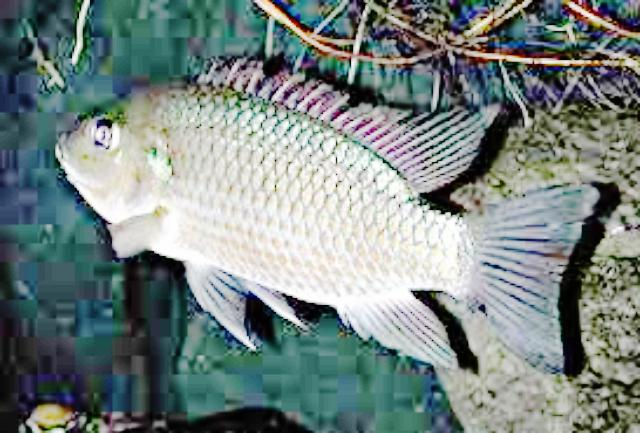Healthy Fish: (56, 59, 602, 373)
